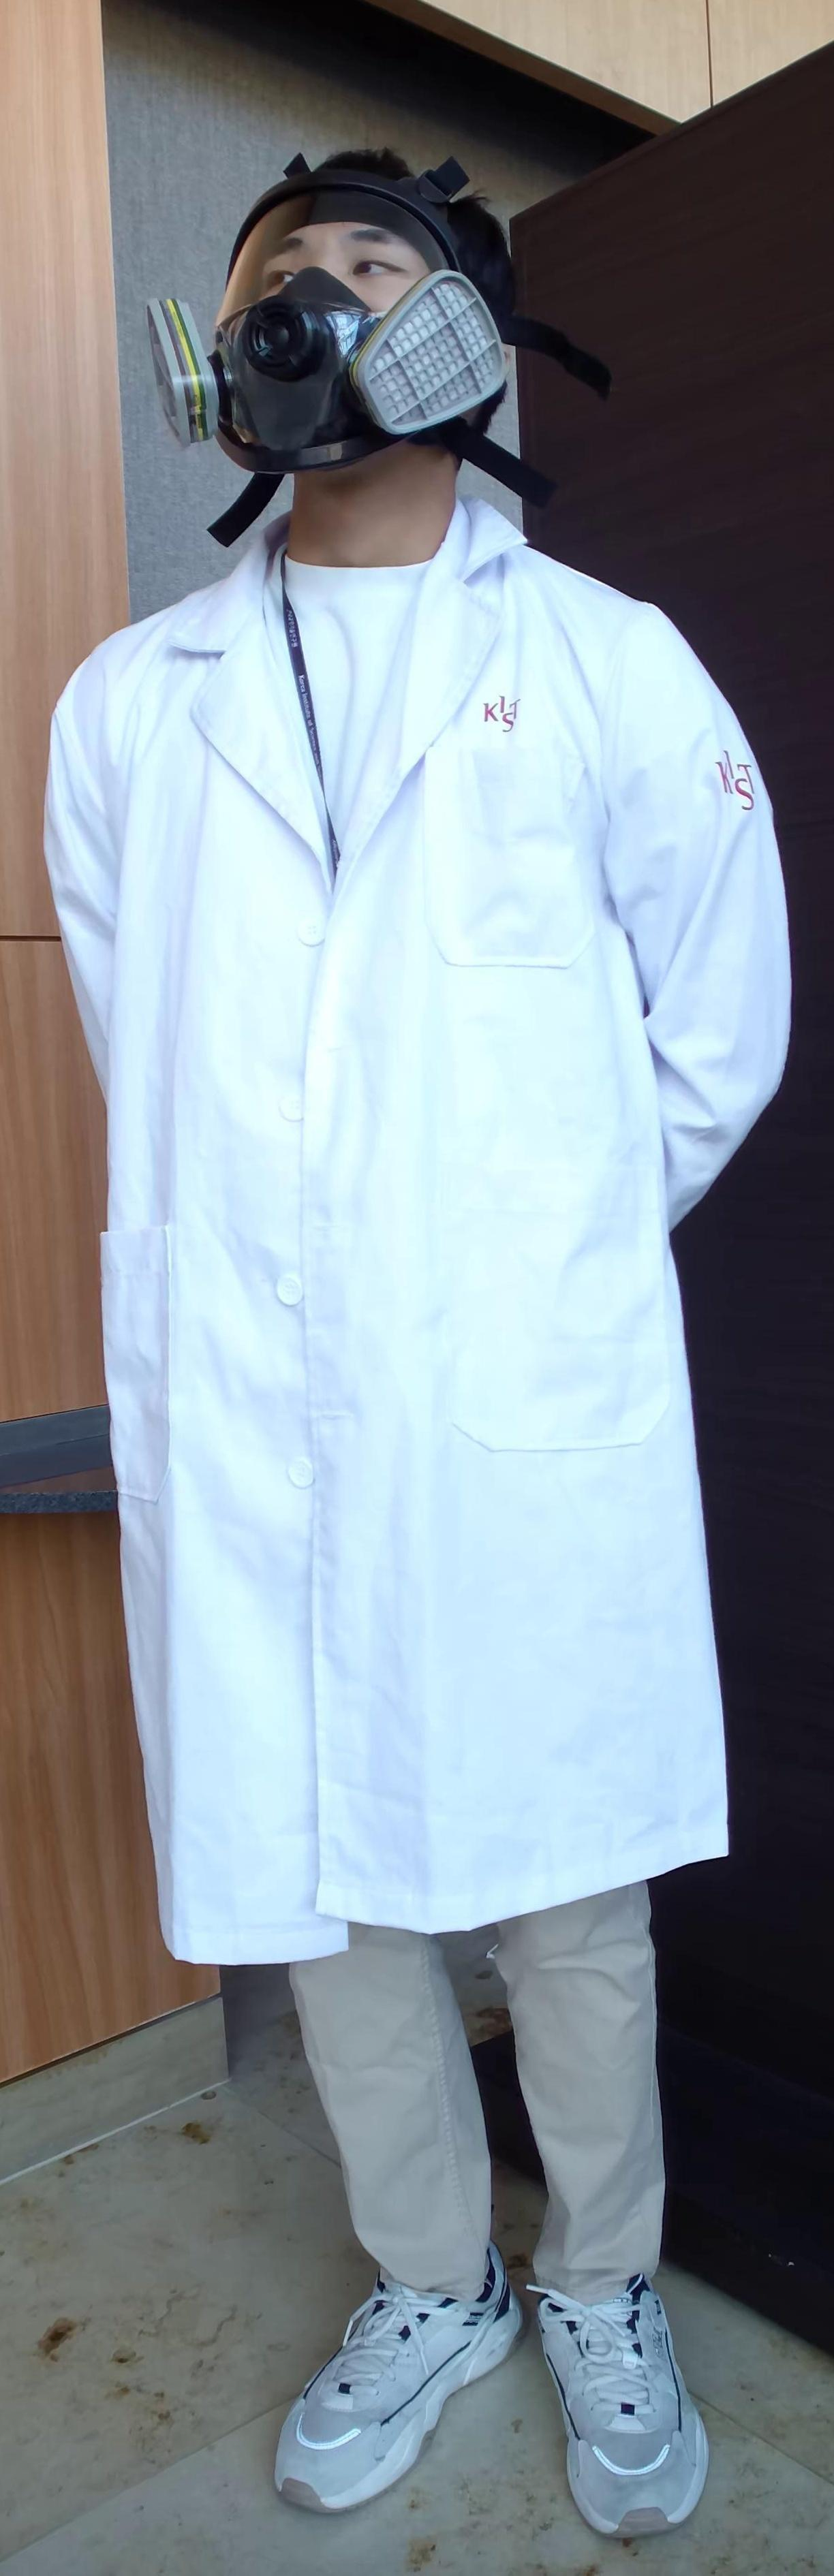lab_coat: (0, 580, 778, 1960)
